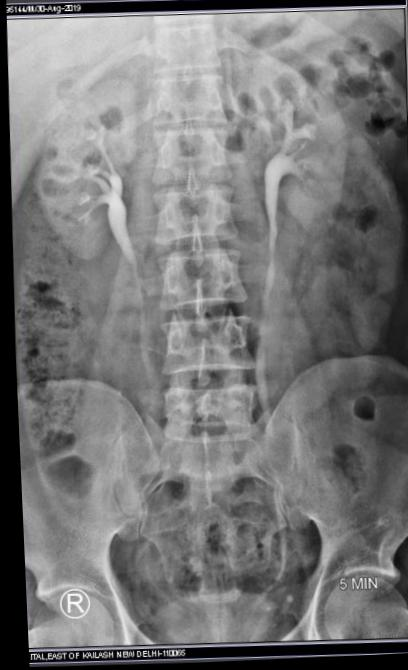left kidney: (237, 55, 364, 253)
right kidney: (25, 66, 147, 272)
vertebrae: (147, 127, 232, 188)
